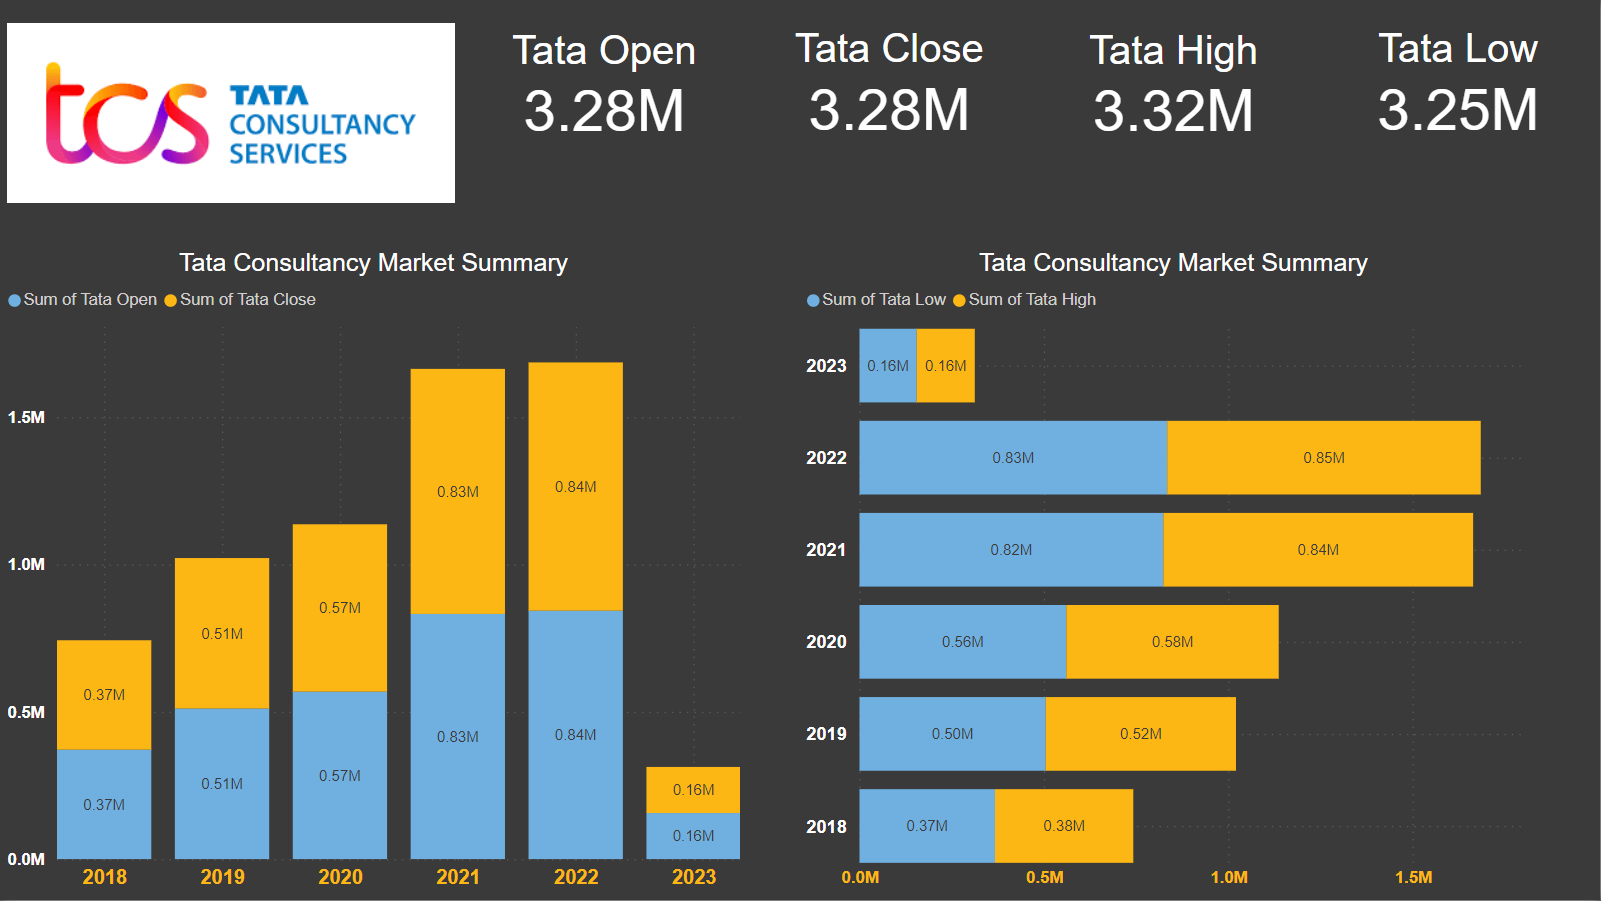

The dashboard page shown, as its layout file describes it:
{"tool":"powerbi","page":{"name":"TCS","canvas":[1280,720],"ordinal":0},"visuals":[{"type":"card","title":"Tata Low","fields":{"Values":["Sum(TCS NS.Tata Low)"]},"box":[1052.5,20.6,227.8,91.9],"z":0},{"type":"card","title":"Tata High","fields":{"Values":["Sum(TCS NS.Tata High)"]},"box":[824.7,22,227.8,91.9],"z":1000},{"type":"card","title":"Tata Close","fields":{"Values":["Sum(TCS NS.Tata Close)"]},"box":[596.9,20.6,227.8,91.9],"z":2000},{"type":"card","title":"Tata Open","fields":{"Values":["Sum(TCS NS.Tata Open)"]},"box":[369.1,22,227.8,91.9],"z":3000},{"type":"columnChart","title":"Tata Consultancy Market Summary","fields":{"Category":["TCS NS.Year"],"Y":["Sum(TCS NS.Tata Open)","Sum(TCS NS.Tata Close)"]},"box":[0,197.6,596.9,522.8],"z":4000},{"type":"barChart","title":"Tata Consultancy Market Summary","fields":{"Category":["TCS NS.Year"],"Y":["Sum(TCS NS.Tata Low)","Sum(TCS NS.Tata High)"]},"box":[639.5,197.6,598.3,522.8],"z":5000},{"type":"image","box":[0,0,369.1,181.1],"z":6000}]}

Visuals, with their boxes in screenshot pixels (x1, y1, x2, y2), scaled from the page's 1280x720 canvas onto the 1601x901 screenshot:
"Tata Low" card: x1=1316 y1=26 x2=1600 y2=141
"Tata High" card: x1=1032 y1=28 x2=1316 y2=143
"Tata Close" card: x1=747 y1=26 x2=1032 y2=141
"Tata Open" card: x1=462 y1=28 x2=747 y2=143
"Tata Consultancy Market Summary" columnChart: x1=0 y1=247 x2=747 y2=900
"Tata Consultancy Market Summary" barChart: x1=800 y1=247 x2=1548 y2=900
image: x1=0 y1=0 x2=462 y2=227
